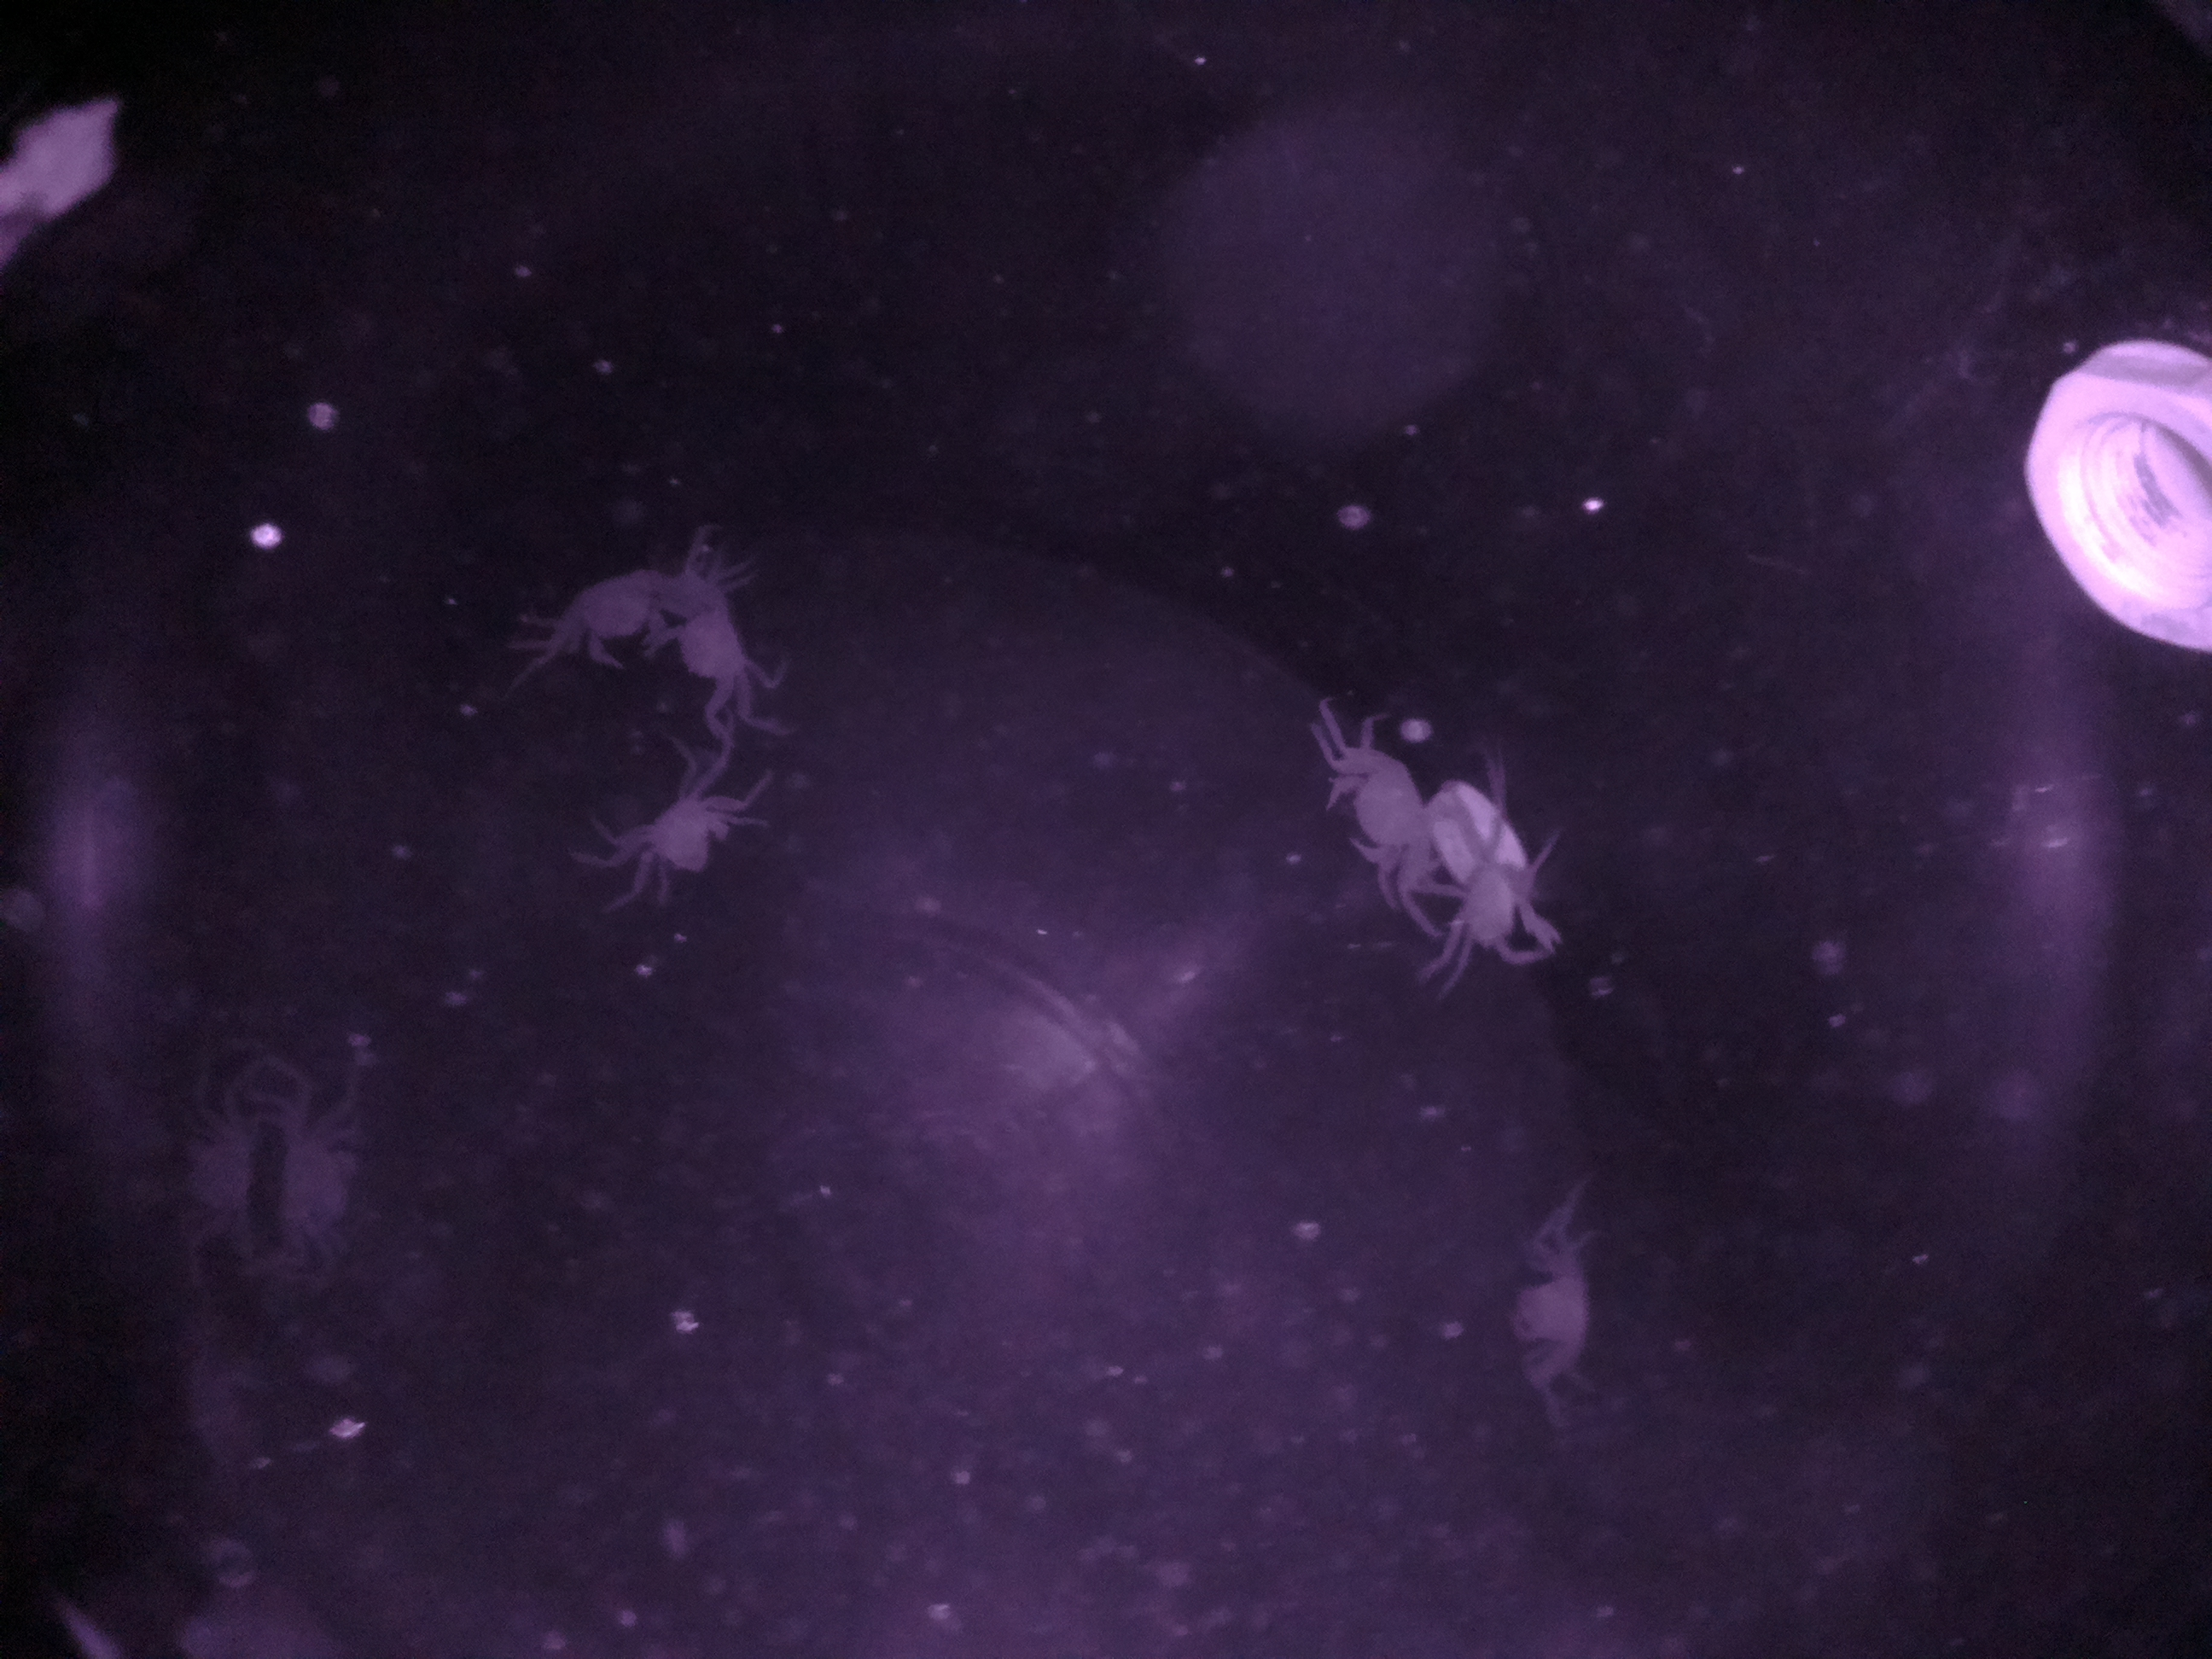Crab: (650, 544, 786, 727), (603, 744, 742, 918)
